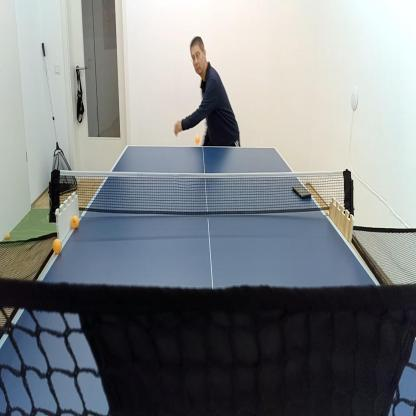Ball: (52, 236, 62, 255), (70, 213, 80, 230), (195, 134, 200, 145), (5, 231, 11, 240)
